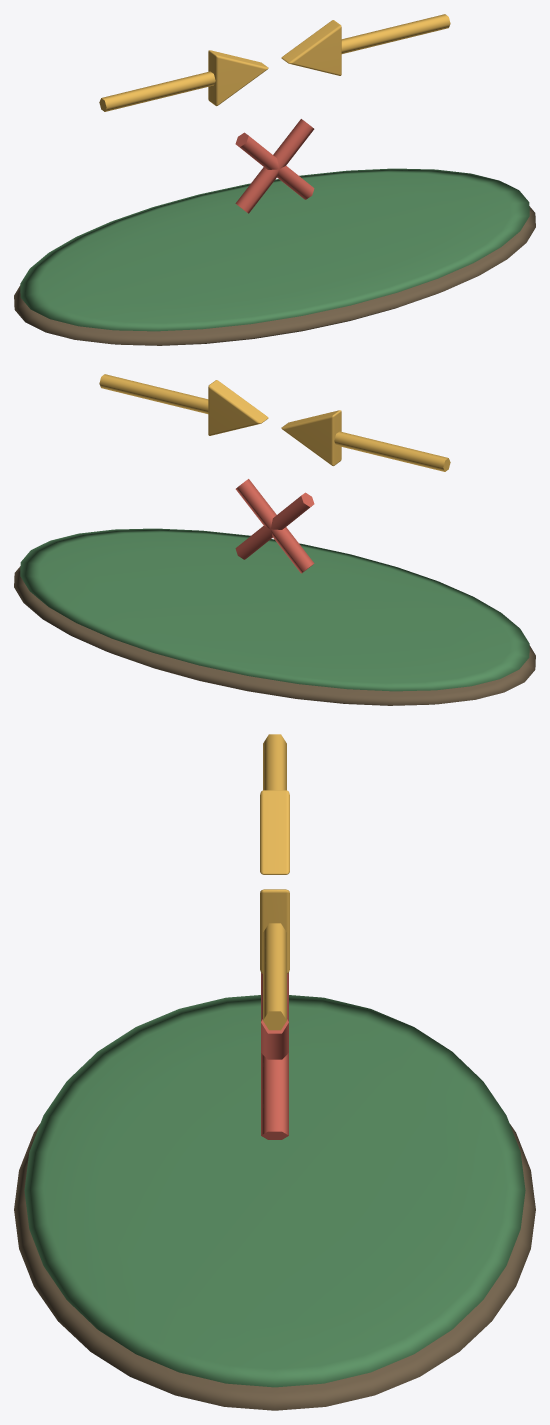
Rendered from complete-second-reverse-facing.glb.
The picture shows the model from 3 angles, top to bottom: view 1: azimuth 30°, elevation 25°; view 2: azimuth 150°, elevation 25°; view 3: azimuth 270°, elevation 25°; orthographic projection. The views are drawn at different scales.
Parts seen in each view (by area): view 1: complete-second-reverse-facing_surface_01, complete-second-reverse-facing_surface_00, complete-second-reverse-facing_surface_02, complete-second-reverse-facing_surface_03; view 2: complete-second-reverse-facing_surface_01, complete-second-reverse-facing_surface_00, complete-second-reverse-facing_surface_02, complete-second-reverse-facing_surface_03; view 3: complete-second-reverse-facing_surface_01, complete-second-reverse-facing_surface_00, complete-second-reverse-facing_surface_02, complete-second-reverse-facing_surface_03.
Part boxes in pixels (x1,y1,x2,y2): complete-second-reverse-facing_surface_01: [20, 168, 529, 331]; complete-second-reverse-facing_surface_00: [14, 206, 535, 345]; complete-second-reverse-facing_surface_02: [99, 14, 450, 111]; complete-second-reverse-facing_surface_03: [235, 119, 314, 213]; complete-second-reverse-facing_surface_01: [20, 528, 529, 691]; complete-second-reverse-facing_surface_00: [14, 566, 535, 705]; complete-second-reverse-facing_surface_02: [99, 374, 450, 471]; complete-second-reverse-facing_surface_03: [235, 479, 314, 573]; complete-second-reverse-facing_surface_01: [24, 995, 525, 1387]; complete-second-reverse-facing_surface_00: [14, 1124, 535, 1410]; complete-second-reverse-facing_surface_02: [260, 734, 289, 1030]; complete-second-reverse-facing_surface_03: [261, 973, 288, 1139].
Bounding box in the file's own units: 4.56 × 2.08 × 2.5.
